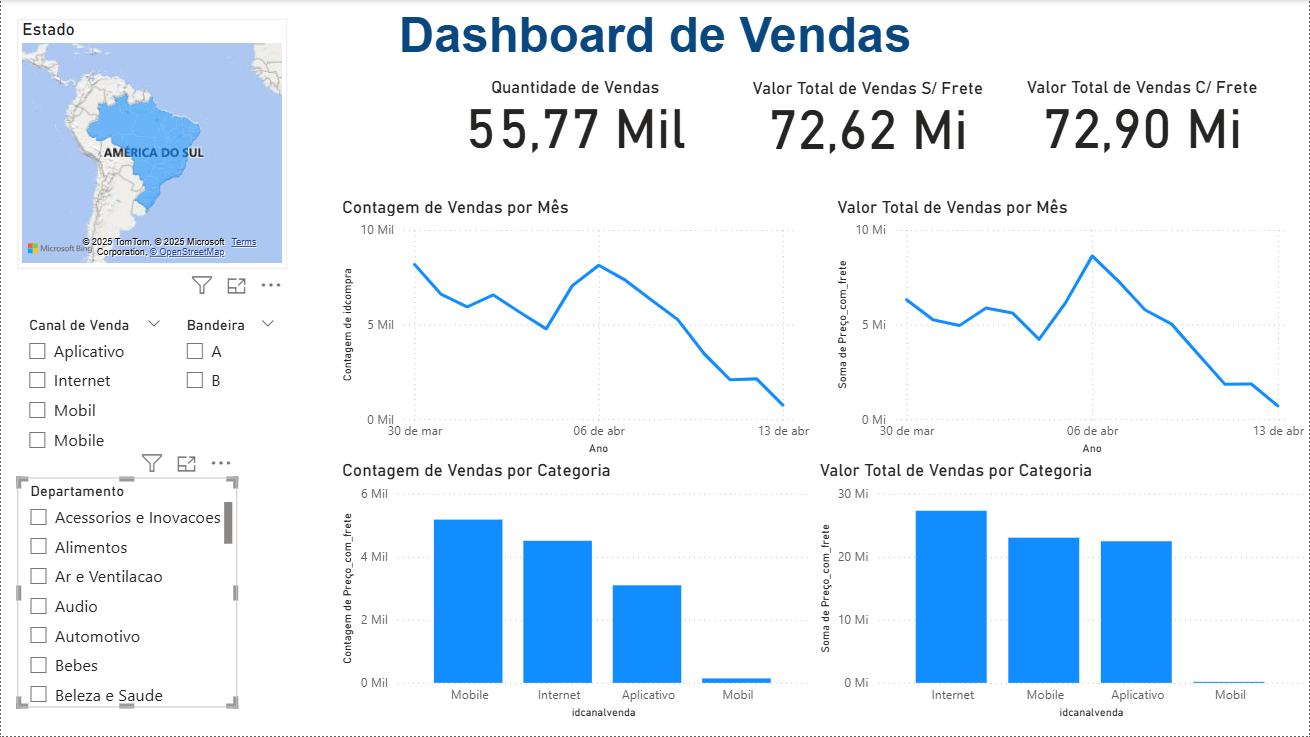

The page's visual inventory and layout, read from the dashboard file:
{"tool":"powerbi","page":{"name":"Vendas","canvas":[1280,720],"ordinal":0},"visuals":[{"type":"textbox","box":[374.3,2.9,531.4,70],"z":1000},{"type":"card","title":"Quantidade de Vendas","fields":{"Values":["Count(base compra.idcompra)"]},"box":[443.9,74.6,236,90.5],"z":2000},{"type":"card","title":"Valor Total de Vendas S/ Frete","fields":{"Values":["Sum(base compra.Preço)"]},"box":[730,75.8,236,90.5],"z":3000},{"type":"card","title":"Valor Total de Vendas C/ Frete","fields":{"Values":["Sum(base compra.Preço_com_frete)"]},"box":[997.6,74.6,237.2,91.7],"z":4000},{"type":"lineChart","title":"Contagem de Vendas por Mês","fields":{"Y":["CountNonNull(base compra.idcompra)"],"Category":["base compra.Data.Variation.Hierarquia de datas.Ano","base compra.Data.Variation.Hierarquia de datas.Mês","base compra.Data.Variation.Hierarquia de datas.Dia"]},"box":[328.9,192,467.1,258],"z":5000},{"type":"lineChart","title":"Valor Total de Vendas por Mês","fields":{"Y":["Sum(base compra.Preço_com_frete)"],"Category":["base compra.Data.Variation.Hierarquia de datas.Ano","base compra.Data.Variation.Hierarquia de datas.Mês","base compra.Data.Variation.Hierarquia de datas.Dia"]},"box":[813.2,192,467.1,258],"z":6000},{"type":"columnChart","title":"Contagem de Vendas por Categoria","fields":{"Category":["base compra.idcanalvenda"],"Y":["Count(base compra.Preço_com_frete)"]},"box":[328.9,450,467.1,258],"z":7000},{"type":"columnChart","title":"Valor Total de Vendas por Categoria","fields":{"Category":["base compra.idcanalvenda"],"Y":["Sum(base compra.Preço_com_frete)"]},"box":[796.1,450,484.2,258],"z":8000},{"type":"slicer","title":"Bnadeira","fields":{"Values":["base compra.bandeira"]},"box":[168.3,304,111.3,96.6],"z":9000},{"type":"filledMap","fields":{"Category":["base compra.Estado"]},"box":[15.9,18.3,264.1,244.6],"z":10000},{"type":"slicer","fields":{"Values":["base compra.idcanalvenda"]},"box":[14.2,304,154.1,146.7],"z":11000},{"type":"slicer","fields":{"Values":["base compra.Nome_Departamento"]},"box":[15.9,467.1,215.2,225],"z":12000}]}

Visuals, with their boxes in screenshot pixels (x1, y1, x2, y2), scaled from the page's 1280x720 canvas onto the 1310x737 screenshot:
textbox: (383,3,927,75)
"Quantidade de Vendas" card: (454,76,696,169)
"Valor Total de Vendas S/ Frete" card: (747,78,989,170)
"Valor Total de Vendas C/ Frete" card: (1021,76,1264,170)
"Contagem de Vendas por Mês" lineChart: (337,197,815,461)
"Valor Total de Vendas por Mês" lineChart: (832,197,1309,461)
"Contagem de Vendas por Categoria" columnChart: (337,461,815,725)
"Valor Total de Vendas por Categoria" columnChart: (815,461,1309,725)
"Bnadeira" slicer: (172,311,286,410)
filledMap - base compra.Estado: (16,19,287,269)
slicer - base compra.idcanalvenda: (15,311,172,461)
slicer - base compra.Nome_Departamento: (16,478,237,708)
